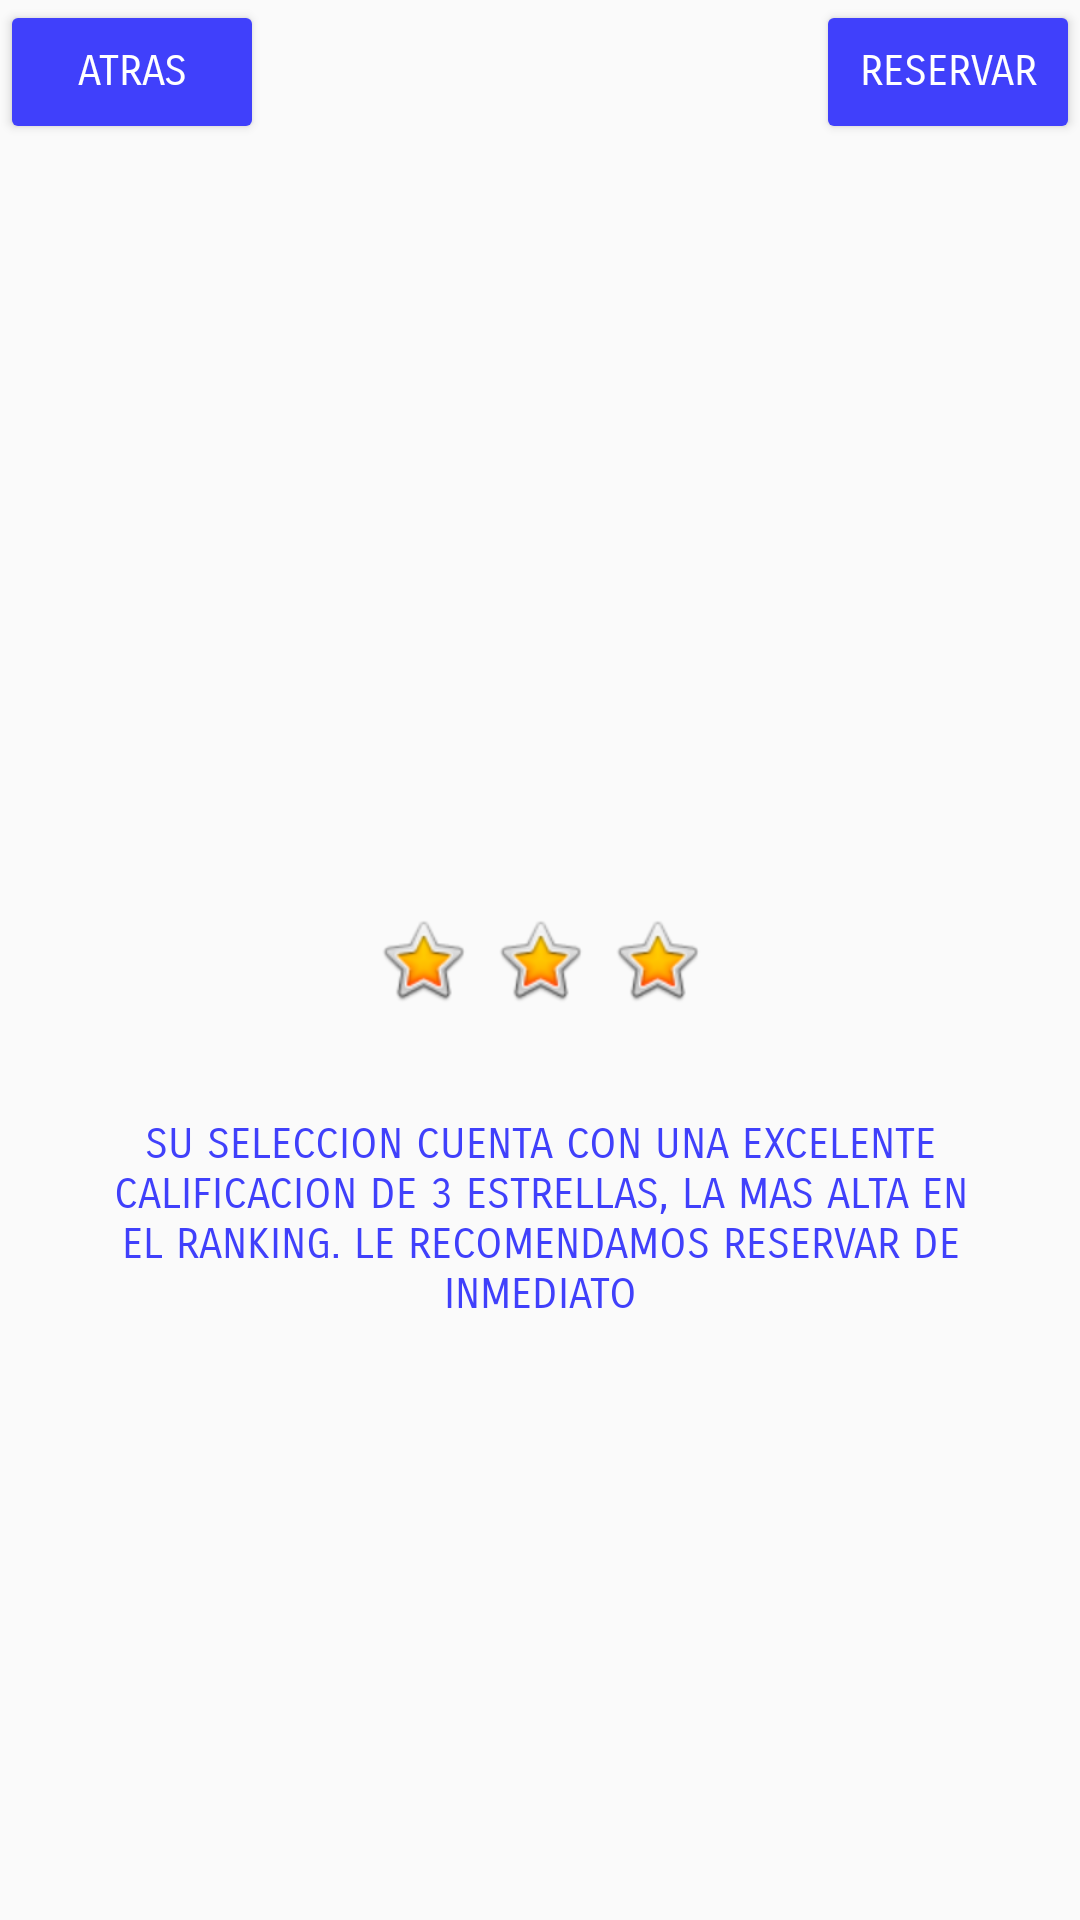

Screen size 1080 x 1920. Icon name, then its box in pixels as (x1, y1, x2, y2):
star on: (384, 922, 464, 1000), (501, 922, 581, 1000), (618, 922, 698, 1000)
